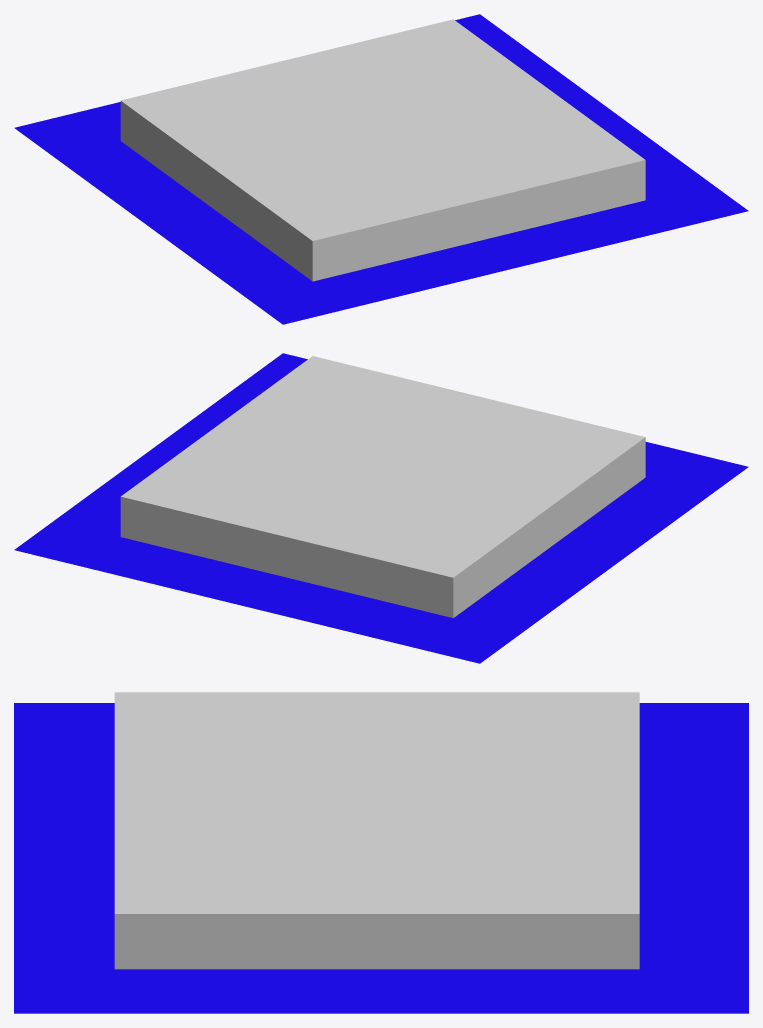
File: stage.fbx
3 renders of one model, top to bottom at view 1: azimuth 30°, elevation 25°; view 2: azimuth 150°, elevation 25°; view 3: azimuth 270°, elevation 25°, orthographic. The views are drawn at different scales.
Parts seen in each view (by area): view 1: 立方体, 平面; view 2: 立方体, 平面; view 3: 立方体, 平面.
Boxes of the visible parts, left/top/right/bottom form: 立方体: left=120, top=19, right=645, bottom=281; 平面: left=14, top=14, right=748, bottom=324; 立方体: left=120, top=356, right=645, bottom=618; 平面: left=14, top=353, right=748, bottom=663; 立方体: left=114, top=692, right=639, bottom=969; 平面: left=14, top=703, right=748, bottom=1013.
Size of the model in its own units: 70000 by 10000 by 70000.
